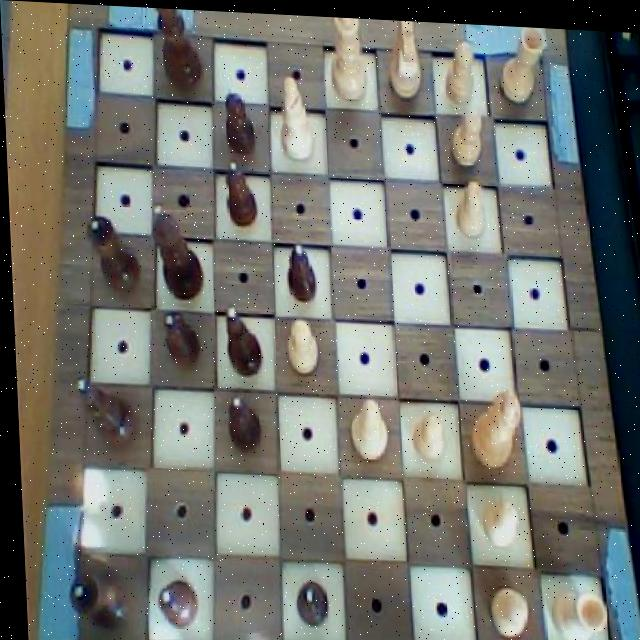bishop: (70, 373, 139, 456), (273, 65, 325, 166), (215, 293, 263, 378), (339, 386, 390, 464)
black-bishop: (149, 6, 209, 94)
black-knight: (157, 303, 204, 376), (218, 75, 259, 157), (218, 388, 265, 457), (219, 150, 259, 228), (277, 232, 320, 303), (149, 569, 197, 632), (284, 568, 329, 631)
black-pawn: (142, 195, 207, 301)
black-queen: (79, 211, 143, 301), (57, 560, 127, 635)
white-bishop: (461, 375, 525, 469)
white-king: (381, 16, 430, 100)
white-knight: (466, 483, 521, 552), (479, 571, 531, 637), (436, 30, 481, 103), (447, 165, 490, 238), (275, 313, 322, 376), (446, 95, 485, 168), (400, 400, 447, 458)
white-pawn: (326, 14, 373, 103)
white-queen: (494, 20, 551, 105), (541, 571, 608, 640)
